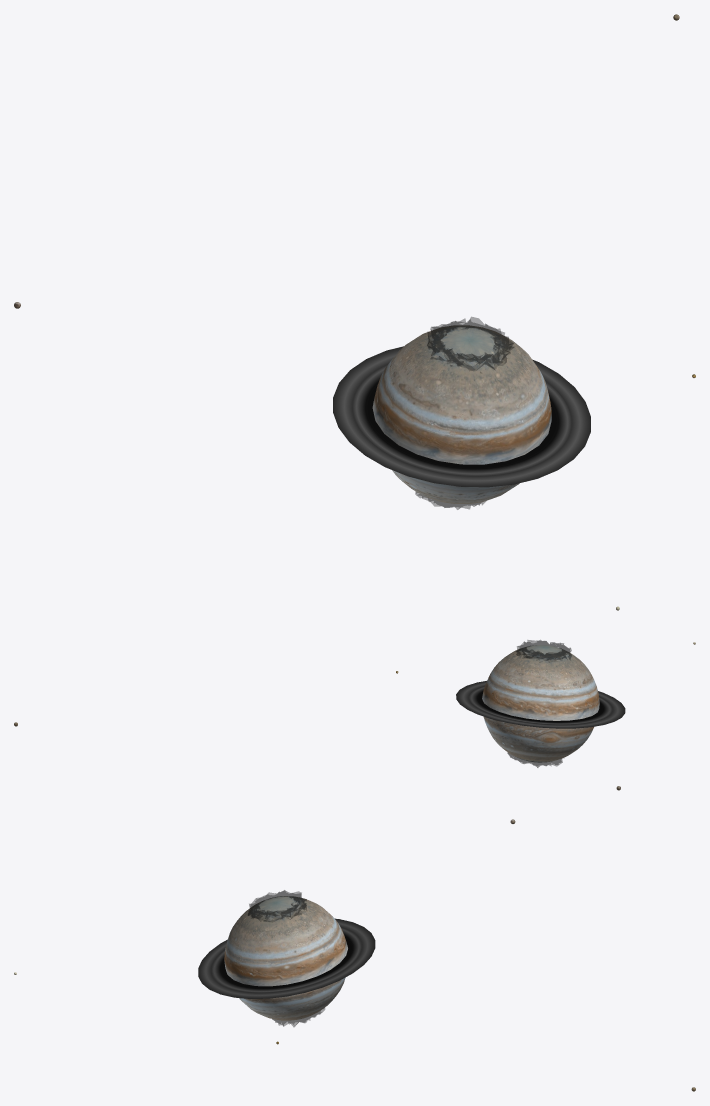
File: jupiter.obj
The picture shows the model from 3 angles, top to bottom: view 1: azimuth 30°, elevation 25°; view 2: azimuth 150°, elevation 25°; view 3: azimuth 270°, elevation 25°; orthographic projection. The views are drawn at different scales.
Parts seen in each view (by area): view 1: Jupiter, Rings, Corona_borealis_north; view 2: Jupiter, Rings, Corona_borealis_north; view 3: Jupiter, Rings, Corona_borealis_north.
Boxes of the visible parts, left/top/right/bottom form: Jupiter: left=372, top=325, right=551, bottom=503; Rings: left=333, top=346, right=590, bottom=487; Corona_borealis_north: left=427, top=317, right=514, bottom=372; Jupiter: left=482, top=645, right=599, bottom=762; Rings: left=456, top=681, right=625, bottom=728; Corona_borealis_north: left=515, top=640, right=571, bottom=662; Jupiter: left=224, top=896, right=347, bottom=1020; Rings: left=198, top=918, right=375, bottom=998; Corona_borealis_north: left=248, top=890, right=306, bottom=921.
Size of the model in its own units: 141 by 29.41 by 151.
7 materials, 6 textured.
